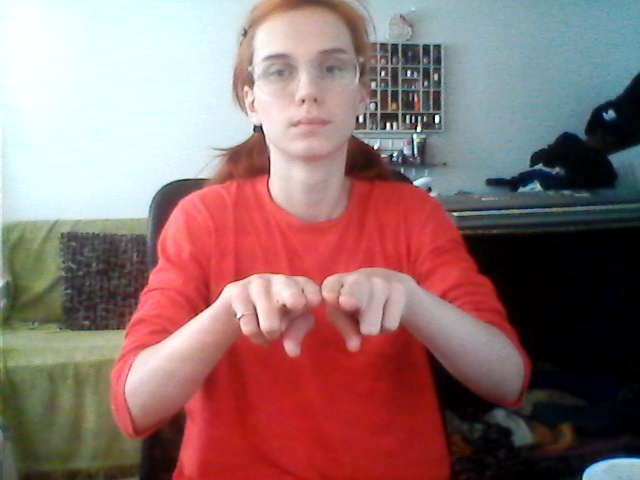brat: (225, 255, 417, 370)
